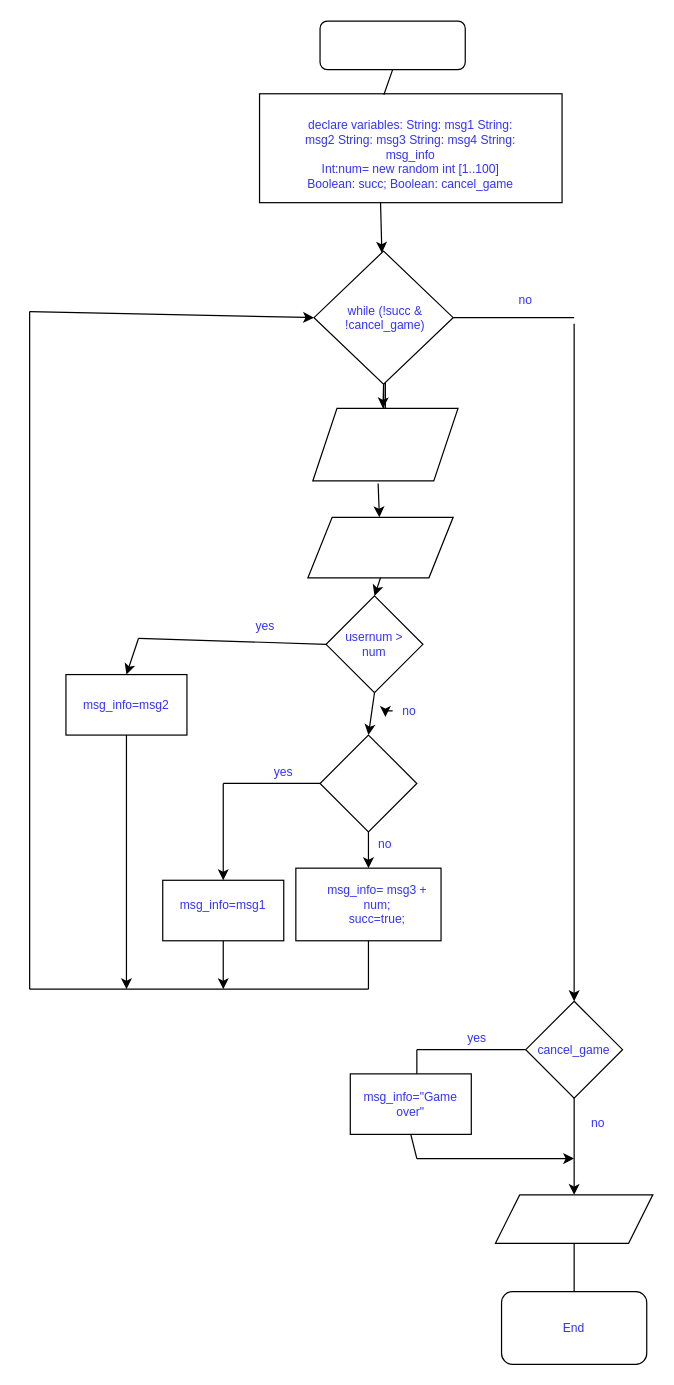
The diagram is 674 pixels wide and 1385 high, and some of its shapes have lost their labels. Here are the shapes that lost their labels. From the top down, the box of each, then its label:
(319, 20, 465, 70): Start
(312, 407, 458, 481): output txtfield: msg_info output button: msg4
(307, 516, 453, 578): input var: usernum input var: cancel_game
(319, 734, 417, 832): usernum < num
(494, 1194, 653, 1243): output: msg_info
